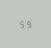five: (19, 20, 24, 28)
nine: (25, 20, 30, 28)
